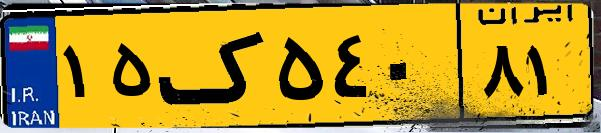0: (385, 28, 445, 110)
1: (57, 26, 110, 100), (525, 38, 570, 115)
4: (330, 28, 385, 110)
5: (270, 28, 330, 110), (110, 28, 158, 98)
8: (475, 38, 525, 113)
ک: (158, 12, 270, 120)
